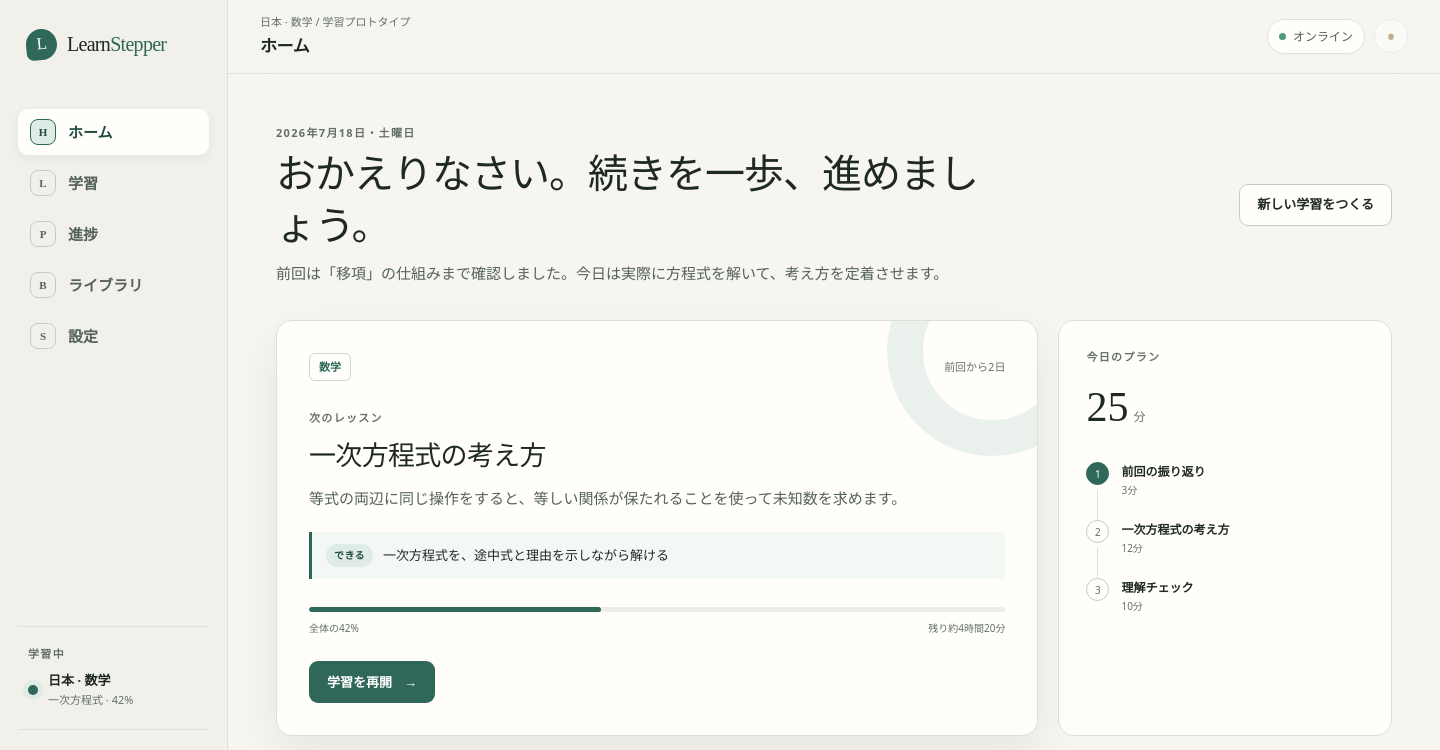
LearnStepper prototype journeys › opens metadata for the selected source in the library
Click the button "B ライブラリ" at {"x": 114, "y": 285}, box left=18, top=262, right=209, bottom=308
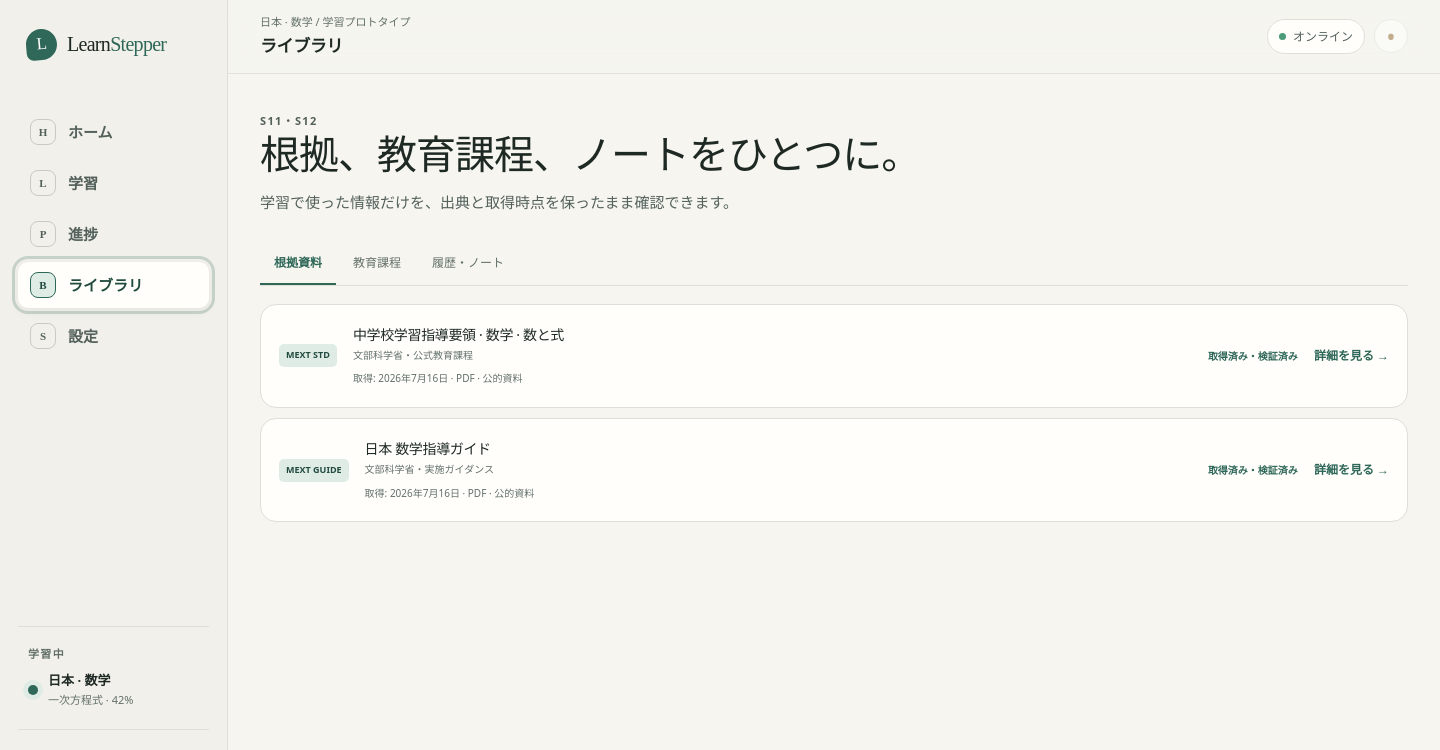
Click the button "詳細を見る →" in the row of "文部科学省・実施ガイダンス" at {"x": 1351, "y": 470}, box left=1314, top=456, right=1389, bottom=484
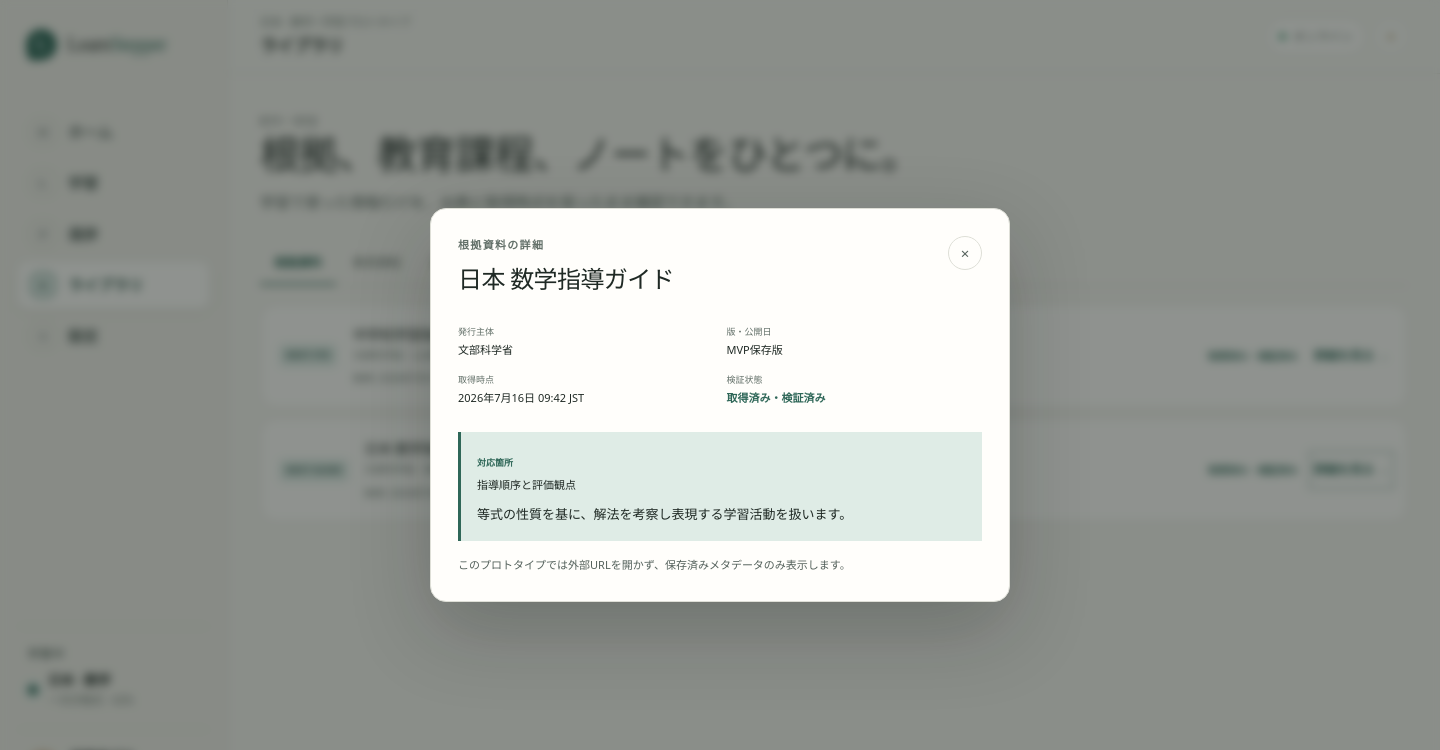
Expected: the dialog "日本 数学指導ガイド" is shown, left=430, top=208, right=1010, bottom=602
Expected: the text "MVP保存版" is shown, left=726, top=342, right=783, bottom=358
